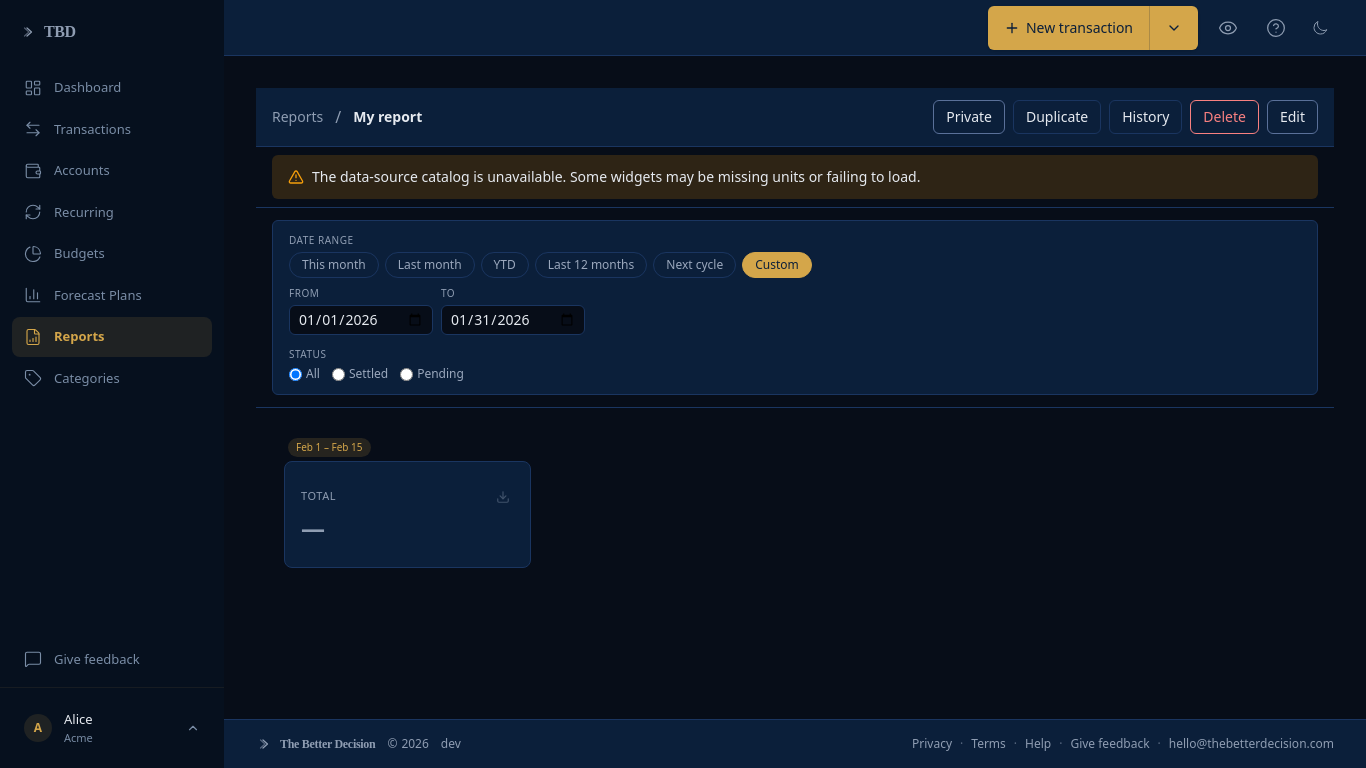
Test case: ReportEditorPage › shows the 'Overrides canvas' pill when a widget overrides a canvas filter
Expected: the element with test id "kpi-widget" is shown, [284,461,531,568]
Click the button with test id "report-editor-toggle-edit" at point(1292, 117), box [1267,100,1318,134]
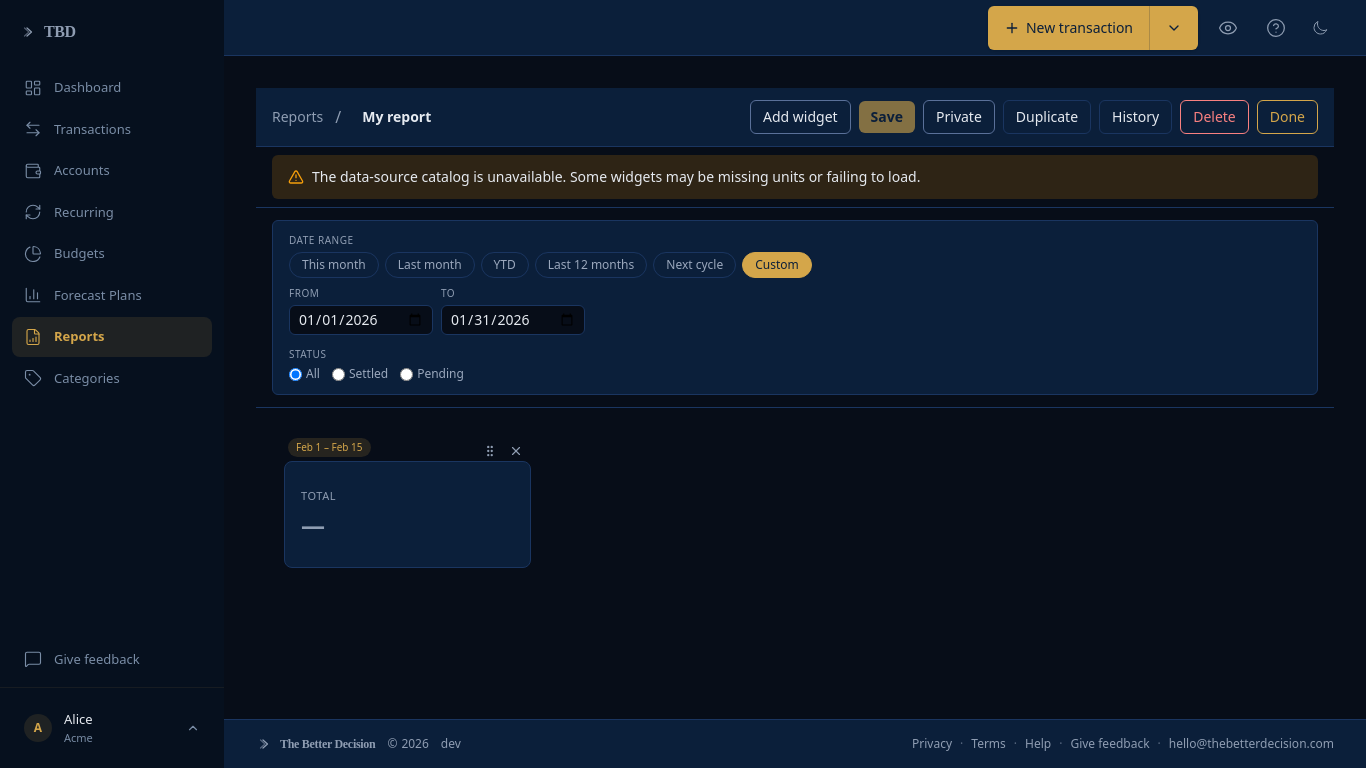
Click the element with test id "kpi-widget" at point(408, 514), box [284,461,531,568]
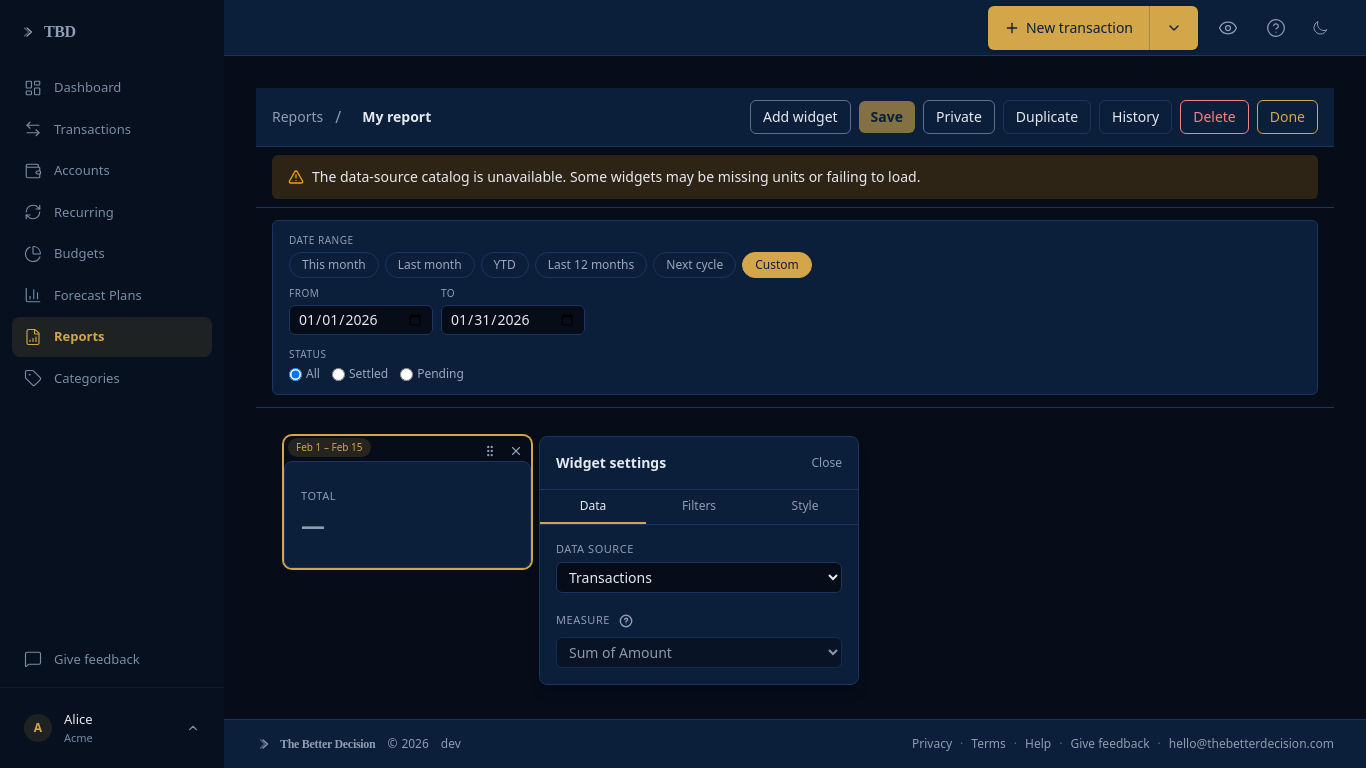
Expected: the dialog with test id "widget-editor-popover" is shown, [539,436,859,684]
Click the tab "Filters" at point(699, 507), box [646,490,752,524]
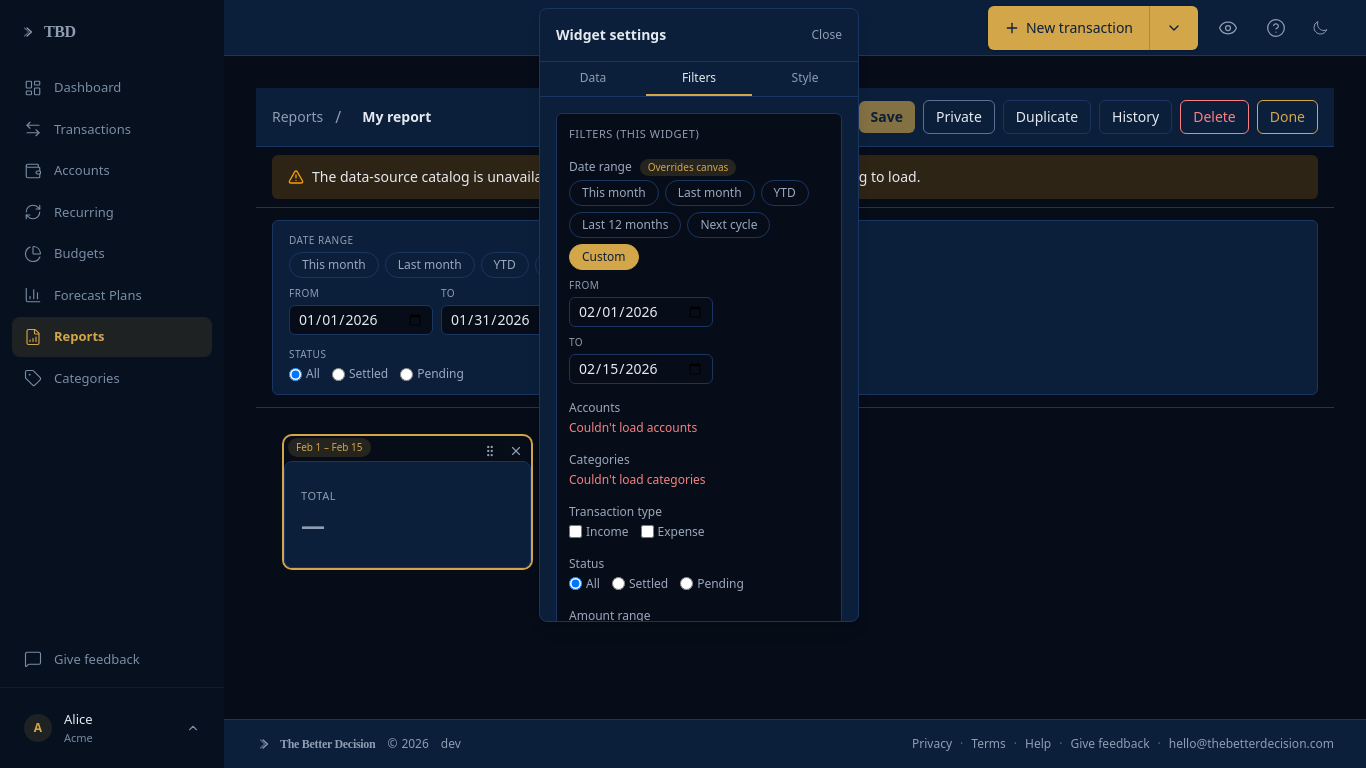
Expected: the text "Overrides canvas" is shown, [640,158,736,176]
